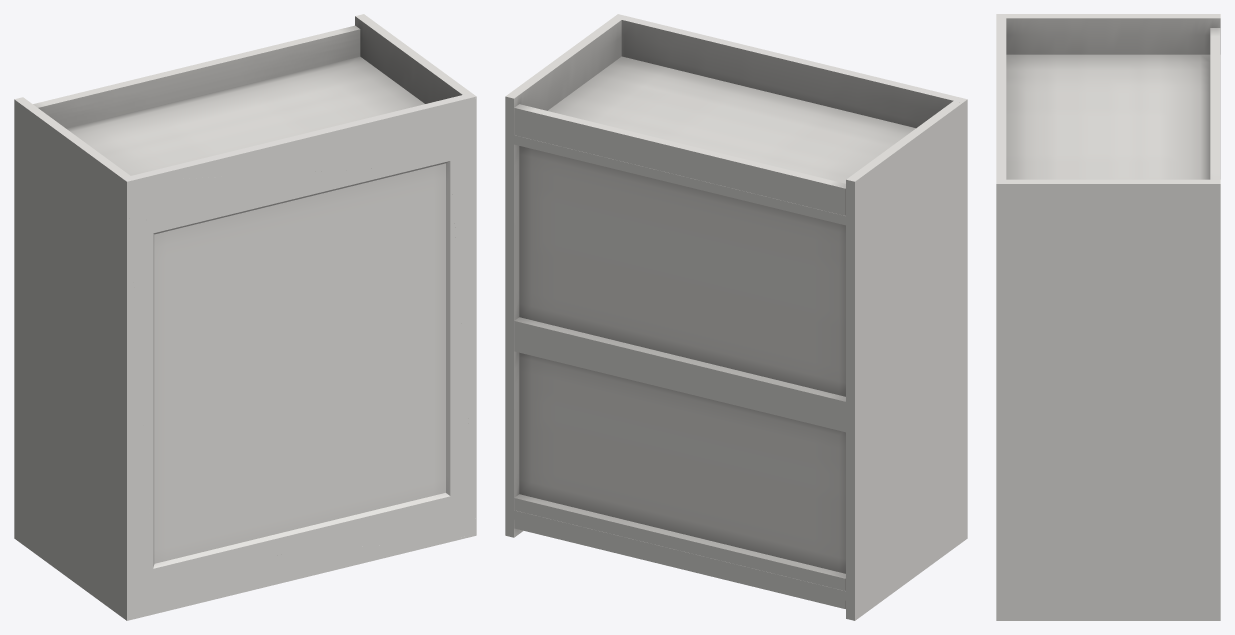
The model's file is ecs-flat-pack-range-hood-doors-on.glb.
The picture shows the model from 3 angles, left to right: view 1: azimuth 30°, elevation 25°; view 2: azimuth 150°, elevation 25°; view 3: azimuth 270°, elevation 25°; orthographic projection.
Visible parts, largest first — view 1: part_door, part_box; view 2: part_box, part_door; view 3: part_box, part_door.
Boxes of the visible parts, x1=… form: part_door: x1=122, y1=93, x2=476, y2=620; part_box: x1=14, y1=14, x2=471, y2=616; part_box: x1=505, y1=17, x2=962, y2=620; part_door: x1=613, y1=14, x2=967, y2=541; part_box: x1=1006, y1=14, x2=1220, y2=620; part_door: x1=996, y1=14, x2=1006, y2=620.
Bounding box in the file's own units: 0.762 × 0.9144 × 0.4254.
Materials: 2 (2 with a texture image).
